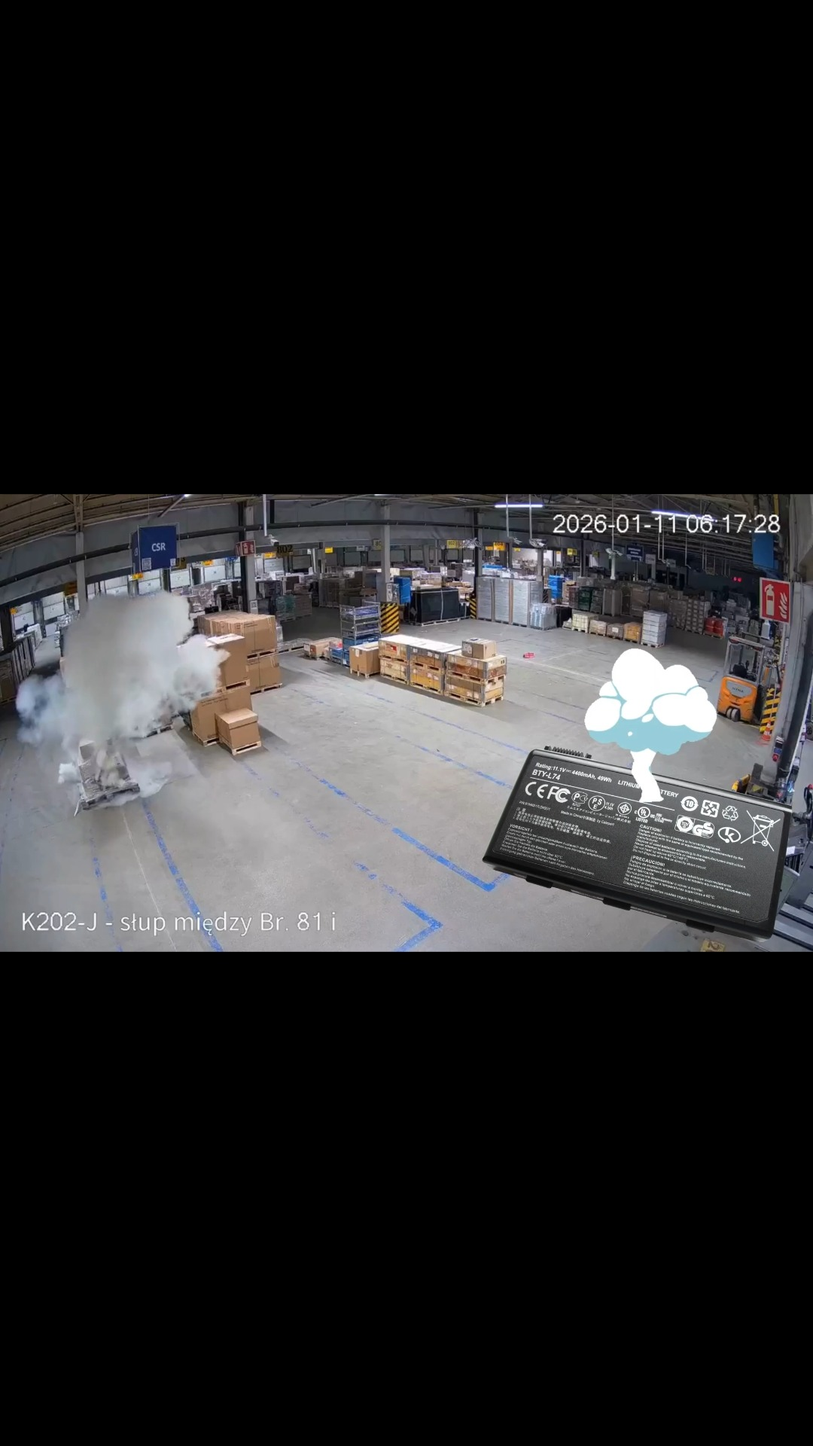smoke: (60, 600, 191, 755)
